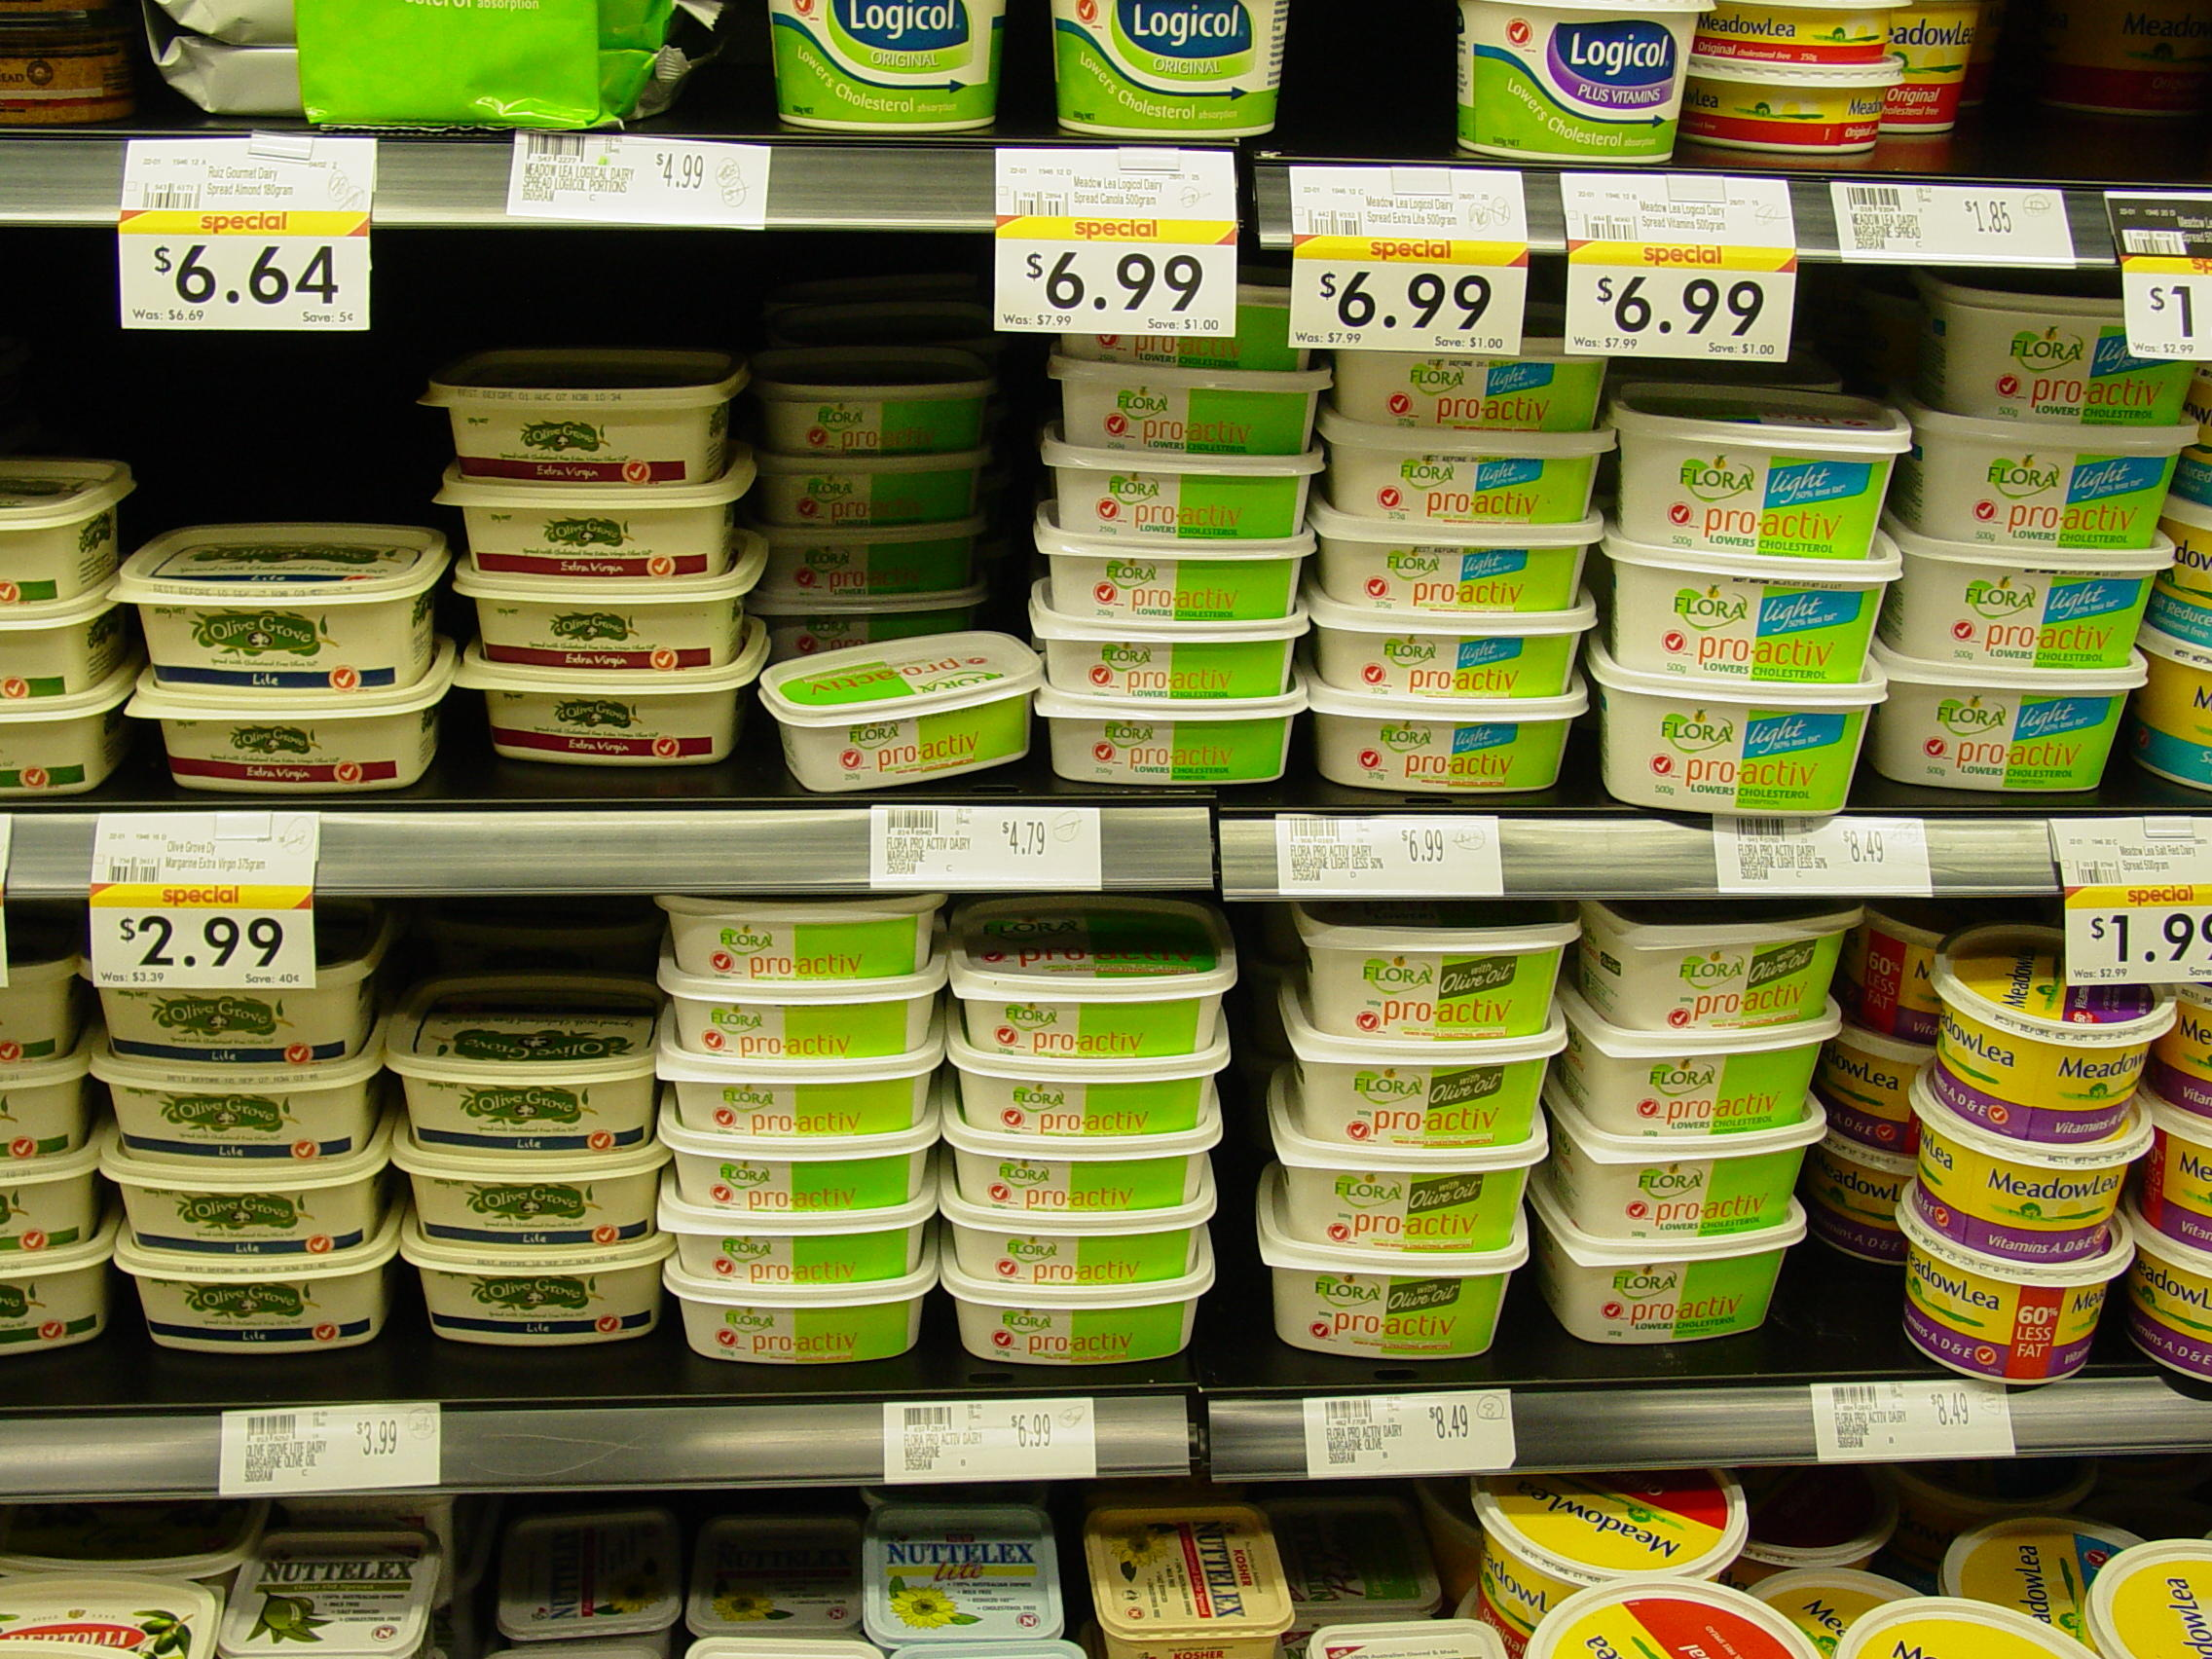Misplacement: (113, 314, 460, 791), (752, 275, 1047, 793), (376, 906, 667, 1403)
